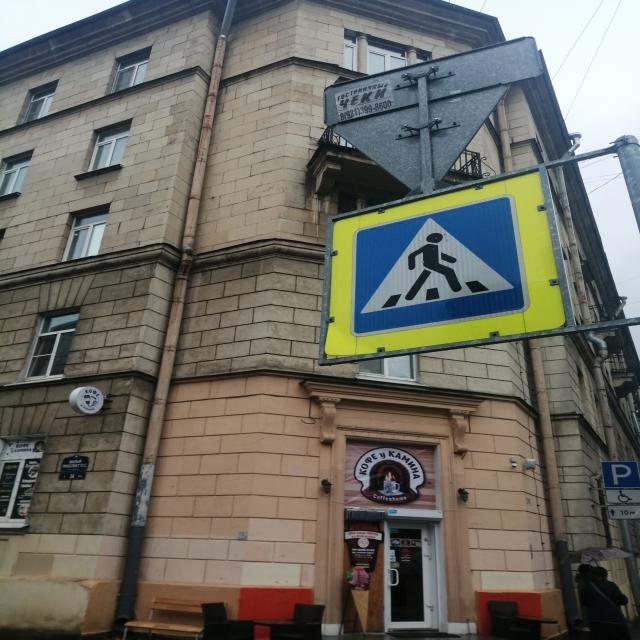road sign: (328, 172, 568, 357), (602, 462, 638, 489), (603, 489, 638, 506), (606, 507, 638, 520)
